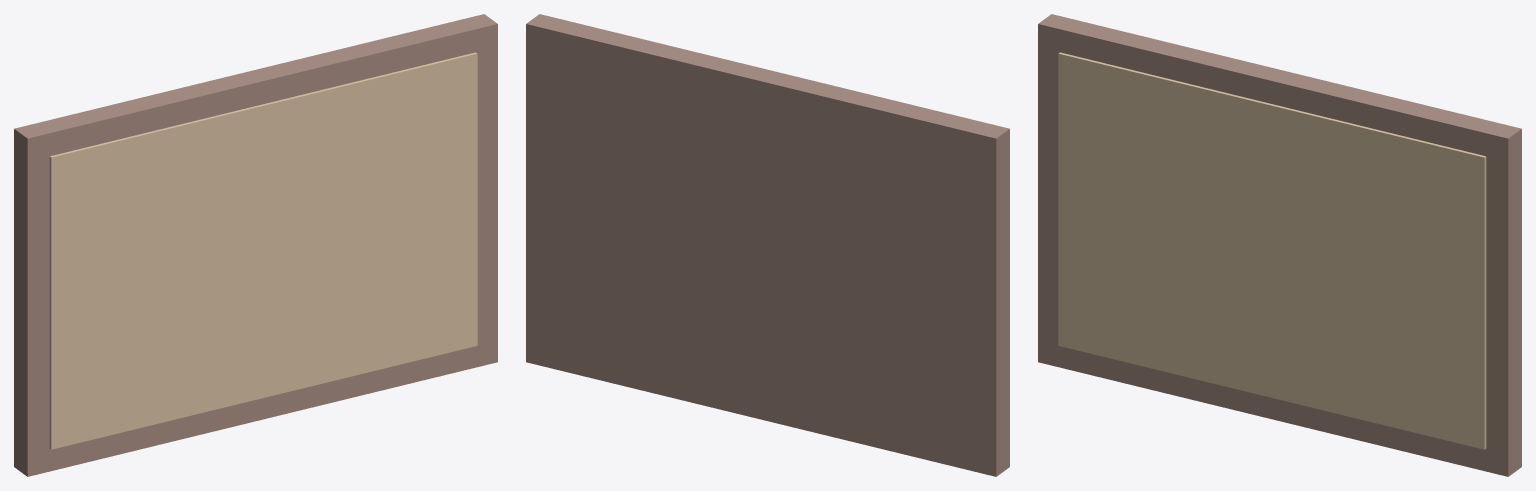
The model's file is cork_board.glb.
3 views of the same model, side by side, from view 1: azimuth 30°, elevation 25°; view 2: azimuth 150°, elevation 25°; view 3: azimuth 330°, elevation 25° (orthographic).
Size of the model in its own units: 0.75 by 0.5156 by 0.0422.
